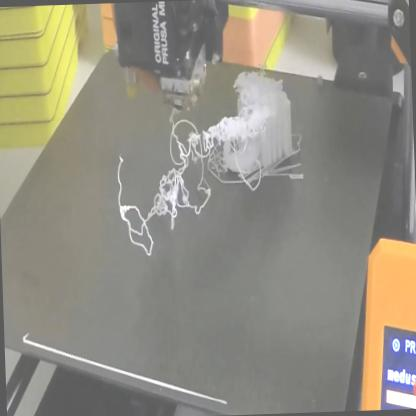fail: (114, 118, 229, 263)
